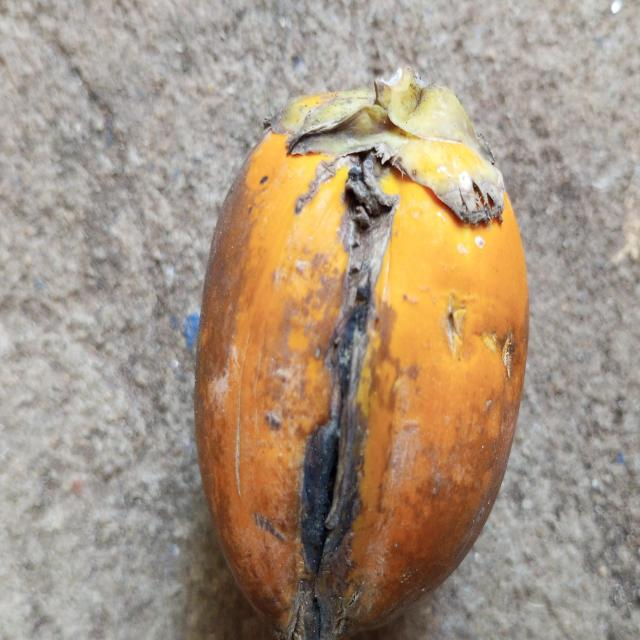damaged: (194, 69, 530, 640)
